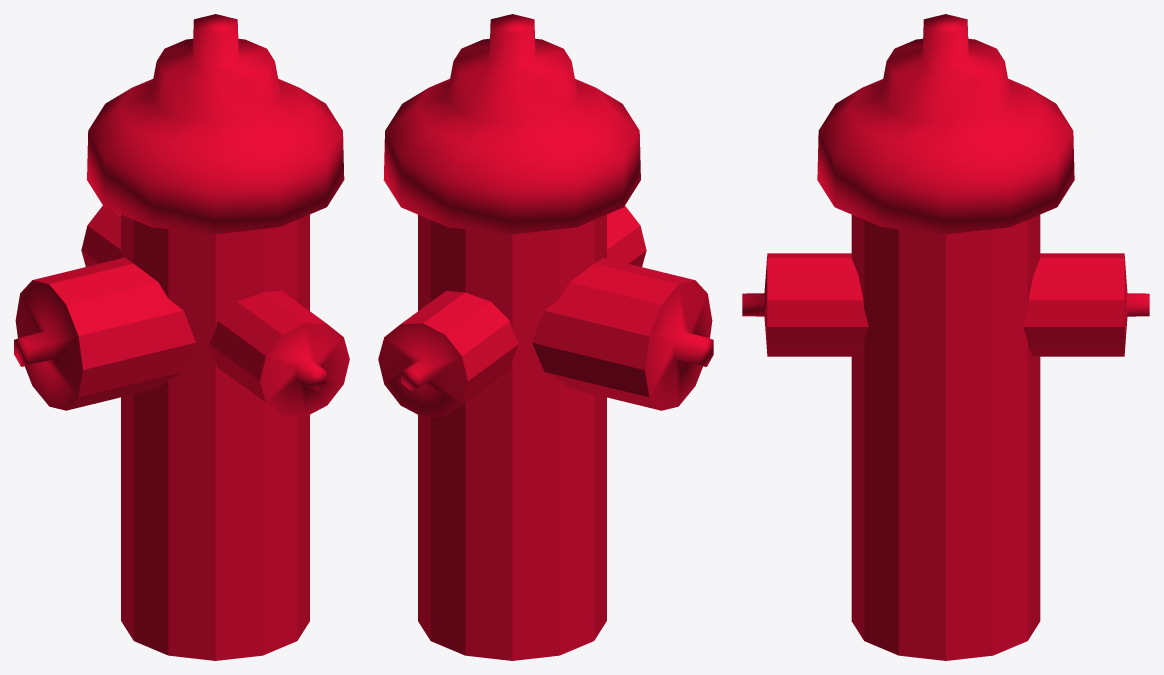
File: hydrant.fbx
3 renders of one model, left to right at view 1: azimuth 30°, elevation 25°; view 2: azimuth 150°, elevation 25°; view 3: azimuth 270°, elevation 25°, orthographic.
Visible parts, largest first — view 1: pCylinder1, pCylinder2, pCylinder3, pCylinder4; view 2: pCylinder1, pCylinder2, pCylinder4, pCylinder3; view 3: pCylinder1, pCylinder3, pCylinder4.
Part boxes in pixels (x1,y1,x2,y2): pCylinder1: (87,14,344,660); pCylinder2: (14,257,195,410); pCylinder3: (209,290,349,417); pCylinder4: (81,205,120,266); pCylinder1: (383,14,640,660); pCylinder2: (532,257,713,410); pCylinder4: (378,290,518,417); pCylinder3: (607,206,646,266); pCylinder1: (817,14,1074,660); pCylinder3: (742,253,868,356); pCylinder4: (1023,253,1149,356).
Size of the model in its own units: 13.08 by 24.38 by 15.09.
